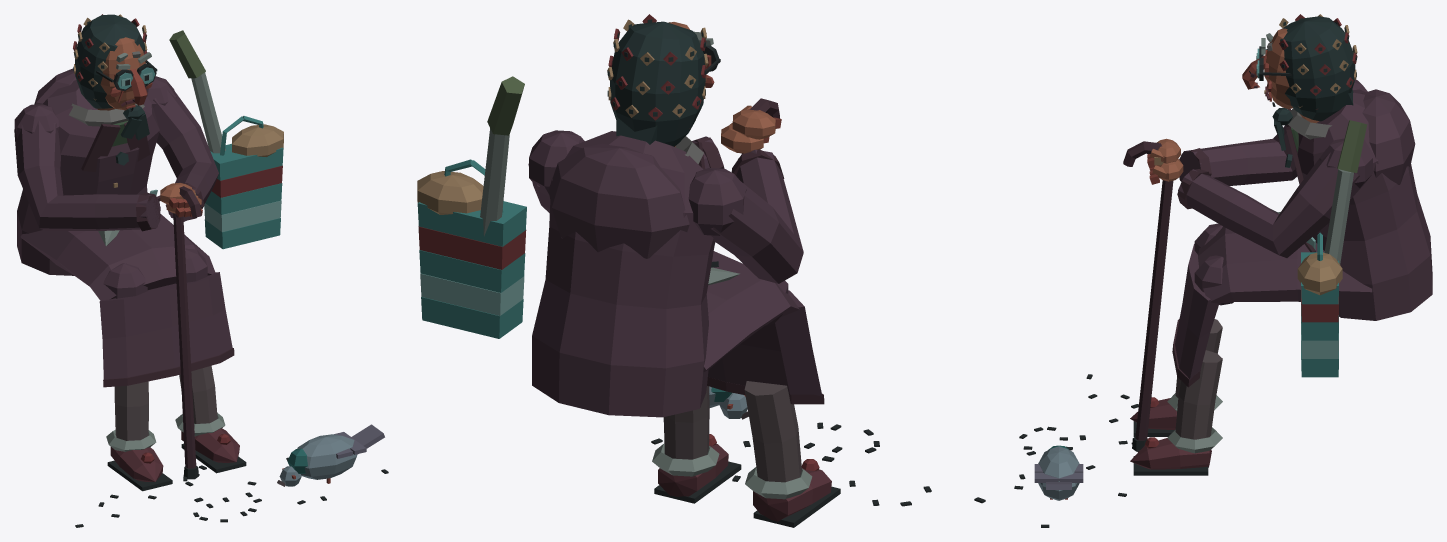
The model's file is baba.glb.
3 renders of one model, left to right at view 1: azimuth 30°, elevation 25°; view 2: azimuth 150°, elevation 25°; view 3: azimuth 270°, elevation 25°, orthographic. The views are drawn at different scales.
Parts seen in each view (by area): view 1: Corp, Cap; view 2: Corp, Cap; view 3: Corp, Cap.
Part boxes in pixels (x1,y1,x2,y2): Corp: (14, 30, 388, 527); Cap: (73, 14, 157, 140); Corp: (417, 76, 985, 527); Cap: (607, 14, 720, 146); Corp: (1014, 80, 1432, 527); Cap: (1242, 14, 1357, 150).
Bounding box in the file's own units: 1.05 × 1.26 × 1.12.
